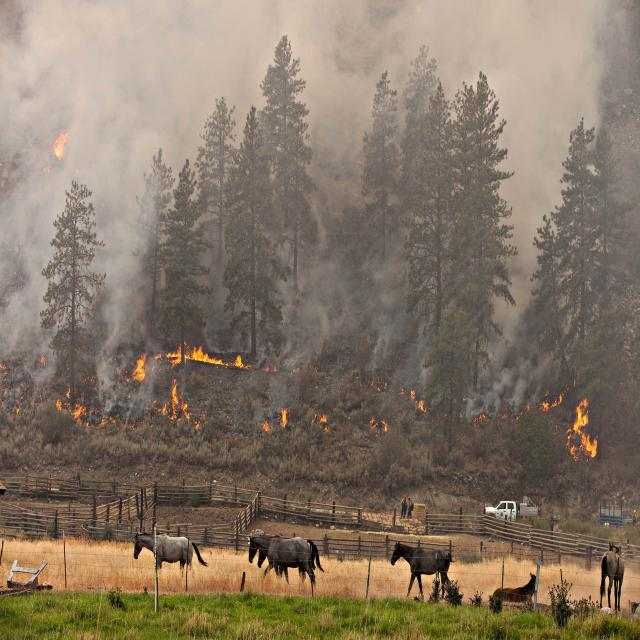Fire: (132, 323, 252, 400), (59, 368, 122, 430), (151, 382, 200, 433), (39, 112, 76, 168), (258, 400, 302, 446), (569, 402, 600, 459), (400, 401, 431, 436), (318, 404, 348, 431)
Smoke: (337, 0, 640, 348), (0, 9, 351, 270), (280, 228, 479, 370)
